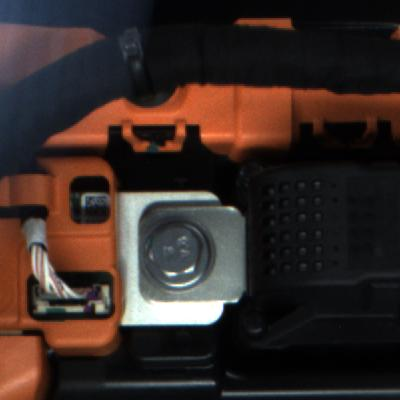nut_b: (129, 214, 218, 293)
